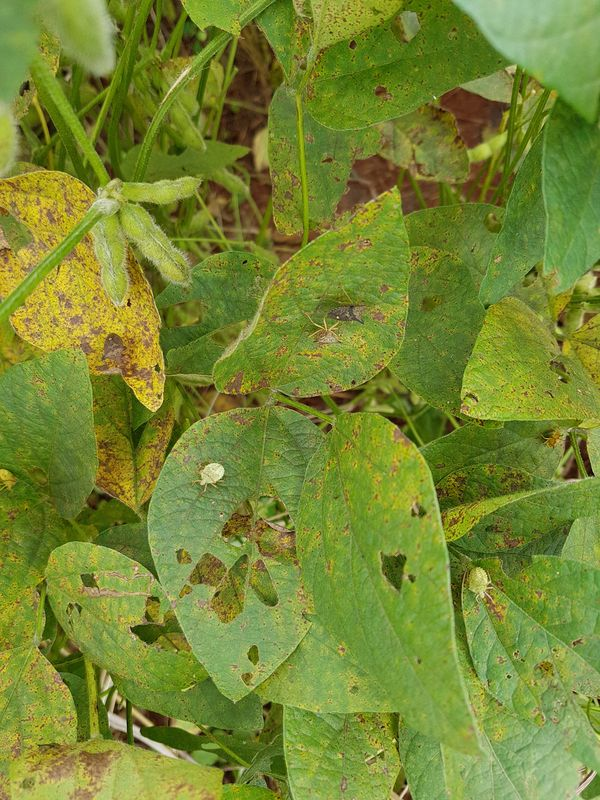Euschistus_heros_adulto: (94, 331, 135, 372), (324, 294, 373, 325), (304, 320, 346, 352)
Euschistus_heros_ninfa: (458, 564, 499, 610), (187, 457, 230, 498), (538, 423, 568, 453)
